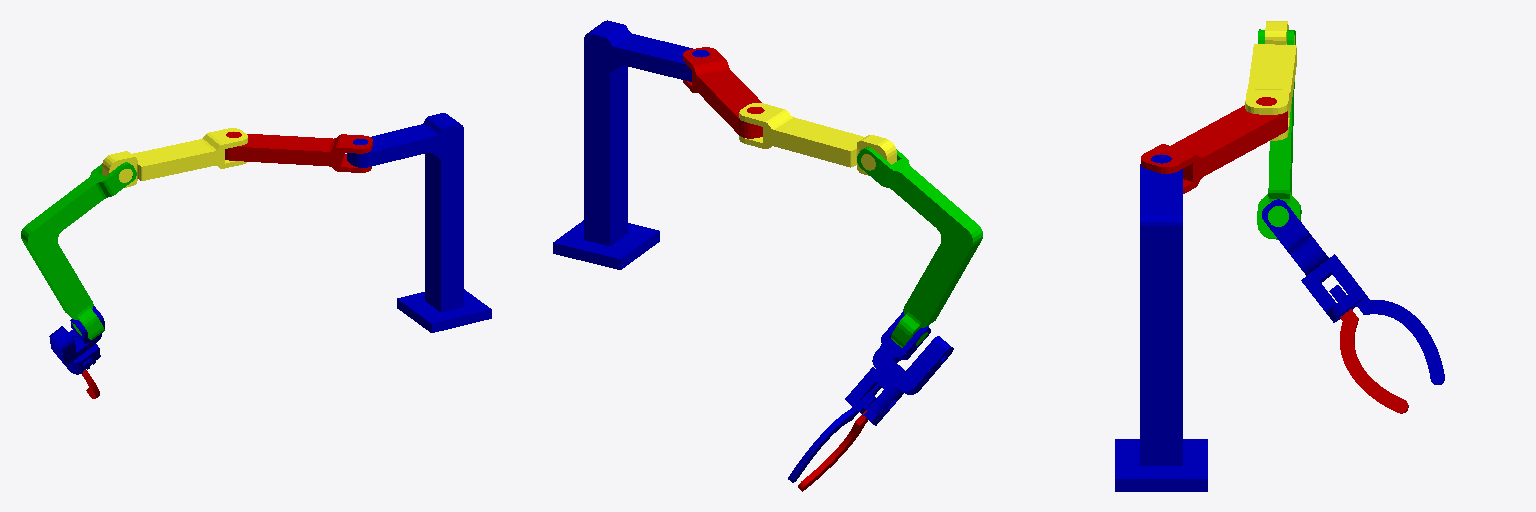
robot.urdf — aibomech_agrobot_v2:
<?xml version="1.0" encoding="utf-8"?>
<!-- This URDF was automatically created by SolidWorks to URDF Exporter! Originally created by Stephen Brawner (brawner@gmail.com) 
     Commit Version: 1.6.0-4-g7f85cfe  Build Version: 1.6.7995.38578
     For more information, please see http://wiki.ros.org/sw_urdf_exporter -->
<robot
  name="aibomech_agrobot_v2">

  <!-- * * * Link color for Rviz  * * * -->
  <material name="blue">
      <color rgba="0 0 0.8 1"/>
  </material>
  <material name="red">
      <color rgba="0.8 0 0 1"/>
  </material>
  <material name="green">
      <color rgba="0 0.8 0 1"/>
  </material>
  <material name="yellow">
      <color rgba="1 1 0.2 1"/>
  </material>

  <!-- * * * Gazebo controller  * * * -->
  <gazebo>
      <plugin name="gazebo_ros_control" filename="libgazebo_ros_control.so">
          <robotNamespace>/</robotNamespace>
      </plugin>
  </gazebo>

  
  <gazebo>
    <plugin name="joint_state_publisher" filename="libgazebo_ros_joint_state_publisher.so">
      <jointName>revolute_1,revolute_2,revolute_3,revolute_4,prismatic_1</jointName>
    </plugin>
  </gazebo>


  <!-- * * * Link Definitions * * * -->
  <link name="world"/>

  <link name="base_link">
    <inertial>
      <origin
        xyz="-0.010581 0.10145 0.0"
        rpy="0 0 0" />
      <mass
        value="0.2" />
      <inertia
        ixx="0.000025417"
        ixy="0.0"
        ixz="0.0"
        iyy="0.0006121"
        iyz="0.0"
        izz="0.0006167" />
    </inertial>
    <visual>
      <origin
        xyz="0 0 0"
        rpy="0 0 0" />
      <geometry>
        <mesh
          filename="package://aibomech_agrobot_v2/meshes/base_link.STL" />
      </geometry>
      <material name="blue"/>
    </visual>
    <collision>
      <origin
        xyz="0 0 0"
        rpy="0 0 0" />
      <geometry>
        <mesh
          filename="package://aibomech_agrobot_v2/meshes/base_link.STL" />
      </geometry>
    </collision>
  </link>

  <gazebo reference="base_link">
      <kp>1000.0</kp>
      <kd>10.0</kd>
      <mu1>10.0</mu1>
      <mu2>10.0</mu2>
      <material>Gazebo/Blue</material>
  </gazebo>

  <joint name="fixed" type="fixed">
       <parent link="world"/>
       <child link="base_link"/>
       <origin rpy="0 0 0" xyz="0.0 0.0 0.05"/>
  </joint>

  <link
    name="link_1">
    <inertial>
      <origin
        xyz="-0.0659 0.0125 0"
        rpy="0 0 0" />
      <mass
        value="0.15" />
      <inertia
        ixx="0.000014063"
        ixy="0.0"
        ixz="0.0"
        iyy="0.00025486"
        iyz="0.0"
        izz="0.0002633" />
    </inertial>
    <visual>
      <origin
        xyz="0 0 0"
        rpy="0 0 0" />
      <geometry>
        <mesh
          filename="package://aibomech_agrobot_v2/meshes/link_1.STL" />
      </geometry>
      <material name="red"/>
    </visual>
    <collision>
      <origin
        xyz="0 0 0"
        rpy="0 0 0" />
      <geometry>
        <mesh
          filename="package://aibomech_agrobot_v2/meshes/link_1.STL" />
      </geometry>
    </collision>
  </link>

  <gazebo reference="link_1">
      <kp>1000.0</kp>
      <kd>10.0</kd>
      <mu1>10.0</mu1>
      <mu2>10.0</mu2>
      <material>Gazebo/Red</material>
  </gazebo>

  <joint
    name="revolute_1"
    type="revolute">
    <origin
      xyz="-0.0905 0 0.1735"
      rpy="1.5708 0 -0.65897" />
    <parent
      link="base_link" />
    <child
      link="link_1" />
    <axis
      xyz="0 1 0" />
    <limit
      lower="-1.09"
      upper="2.1"
      effort="150"
      velocity="0" />
  </joint>

  <link
    name="link_2">
    <inertial>
      <origin
        xyz="-0.067695 0.012623 -4.1633E-17"
        rpy="0 0 0" />
      <mass
        value="0.15" />
      <inertia
        ixx="0.000014063"
        ixy="0.0"
        ixz="0.0"
        iyy="0.00026926"
        iyz="0.0"
        izz="0.0002777" />
    </inertial>
    <visual>
      <origin
        xyz="0 0 0"
        rpy="0 0 0" />
      <geometry>
        <mesh
          filename="package://aibomech_agrobot_v2/meshes/link_2.STL" />
      </geometry>
      <material name="yellow"/>
    </visual>
    <collision>
      <origin
        xyz="0 0 0"
        rpy="0 0 0" />
      <geometry>
        <mesh
          filename="package://aibomech_agrobot_v2/meshes/link_2.STL" />
      </geometry>
    </collision>
  </link>

  <gazebo reference="link_2">
      <kp>1000.0</kp>
      <kd>10.0</kd>
      <mu1>10.0</mu1>
      <mu2>10.0</mu2>
      <material>Gazebo/Yellow</material>
  </gazebo>

  <joint
    name="revolute_2"
    type="revolute">
    <origin
      xyz="-0.12 0 0"
      rpy="0 0.60223 0" />
    <parent
      link="link_1" />
    <child
      link="link_2" />
    <axis
      xyz="0 1 0" />
    <limit
      lower="-2.1"
      upper="1.11"
      effort="150"
      velocity="0" />
  </joint>

  <link
    name="link_3">
    <inertial>
      <origin
        xyz="-0.082394 -5.5511E-17 0.042771"
        rpy="0 0 0" />
      <mass
        value="0.081686" />
      <inertia
        ixx="0.00016721"
        ixy="0.0"
        ixz="0.0"
        iyy="0.0002399"
        iyz="0.0"
        izz="7.7701E-05" />
    </inertial>
    <visual>
      <origin
        xyz="0 0 0"
        rpy="0 0 0" />
      <geometry>
        <mesh
          filename="package://aibomech_agrobot_v2/meshes/link_3.STL" />
      </geometry>
      <material name="green"/>
    </visual>
    <collision>
      <origin
        xyz="0 0 0"
        rpy="0 0 0" />
      <geometry>
        <mesh
          filename="package://aibomech_agrobot_v2/meshes/link_3.STL" />
      </geometry>
    </collision>
  </link>

  <gazebo reference="link_3">
      <kp>1000.0</kp>
      <kd>10.0</kd>
      <mu1>10.0</mu1>
      <mu2>10.0</mu2>
      <material>Gazebo/Green</material>
  </gazebo>

  <joint
    name="revolute_3"
    type="revolute">
    <origin
      xyz="-0.12 0.013028 0"
      rpy="1.5708 0 0.49429" />
    <parent
      link="link_2" />
    <child
      link="link_3" />
    <axis
      xyz="0 1 0" />
    <limit
      lower="-2"
      upper="1.1"
      effort="5"
      velocity="0" />
  </joint>

  <link
    name="link_4">
    <inertial>
      <origin
        xyz="-0.044405 0.073633 -0.0018404"
        rpy="0 0 0" />
      <mass
        value="0.10" />
      <inertia
        ixx="0.000024375"
        ixy="0.0"
        ixz="0.0"
        iyy="0.00004208"
        iyz="0.0"
        izz="0.00003271" />
    </inertial>
    <visual>
      <origin
        xyz="0 0 0"
        rpy="0 0 0" />
      <geometry>
        <mesh
          filename="package://aibomech_agrobot_v2/meshes/link_4.STL" />
      </geometry>
      <material name="blue"/>
    </visual>
    <collision>
      <origin
        xyz="0 0 0"
        rpy="0 0 0" />
      <geometry>
        <mesh
          filename="package://aibomech_agrobot_v2/meshes/link_4.STL" />
      </geometry>
    </collision>
  </link>

  <gazebo reference="link_4">
      <kp>1000.0</kp>
      <kd>10.0</kd>
      <mu1>10.0</mu1>
      <mu2>10.0</mu2>
      <material>Gazebo/Blue</material>
  </gazebo>

  <joint
    name="revolute_4"
    type="revolute">
    <origin
      xyz="-0.041826 0 0.115"
      rpy="0 0.88733 1.5708" />
    <parent
      link="link_3" />
    <child
      link="link_4" />
    <axis
      xyz="0 1 0" />
    <limit
      lower="-1"
      upper="2.3"
      effort="10"
      velocity="0" />
  </joint>

  <link
    name="link_5">
    <inertial>
      <origin
        xyz="0.016259 0.041204 0.0025"
        rpy="0 0 0" />
      <mass
        value="0.05" />
      <inertia
        ixx="0.0000020833"
        ixy="0.0"
        ixz="0.0"
        iyy="0.00005208"
        iyz="0.0"
        izz="0.00005083" />
    </inertial>
    <visual>
      <origin
        xyz="0 0 0"
        rpy="0 0 0" />
      <geometry>
        <mesh
          filename="package://aibomech_agrobot_v2/meshes/link_5.STL" />
      </geometry>
      <material name="red"/>
    </visual>
    <collision>
      <origin
        xyz="0 0 0"
        rpy="0 0 0" />
      <geometry>
        <mesh
          filename="package://aibomech_agrobot_v2/meshes/link_5.STL" />
      </geometry>
    </collision>
  </link>

  <gazebo reference="link_5">
      <kp>1000.0</kp>
      <kd>10.0</kd>
      <mu1>10.0</mu1>
      <mu2>10.0</mu2>
      <material>Gazebo/Red</material>
  </gazebo>

  <joint
    name="prismatic_1"
    type="prismatic">
    <origin
      xyz="-0.075 0.080174 0"
      rpy="-0.84443 -1.5708 2.4684" />
    <parent
      link="link_4" />
    <child
      link="link_5" />
    <axis
      xyz="1 0 0" />
    <limit
      lower="-0.022"
      upper="0.01"
      effort="10"
      velocity="0" />

  </joint>


  <!-- * * * Motor and Hardware Definitions * * * -->

  <transmission name="tran1">
      <type>transmission_interface/SimpleTransmission</type>
      <joint name="revolute_1">
          <hardwareInterface>hardware_interface/PositionJointInterface</hardwareInterface>
      </joint>
      <actuator name="motor1">
          <hardwareInterface>hardware_interface/PositionJointInterface</hardwareInterface>
          <mechanicalReduction>1</mechanicalReduction>
      </actuator>
  </transmission>

  <transmission name="tran2">
      <type>transmission_interface/SimpleTransmission</type>
      <joint name="revolute_2">
          <hardwareInterface>hardware_interface/PositionJointInterface</hardwareInterface>
      </joint>
      <actuator name="motor2">
          <hardwareInterface>hardware_interface/PositionJointInterface</hardwareInterface>
          <mechanicalReduction>1</mechanicalReduction>
      </actuator>
  </transmission>

  <transmission name="tran3">
      <type>transmission_interface/SimpleTransmission</type>
      <joint name="revolute_3">
          <hardwareInterface>hardware_interface/PositionJointInterface</hardwareInterface>
      </joint>
      <actuator name="motor3">
          <hardwareInterface>hardware_interface/PositionJointInterface</hardwareInterface>
          <mechanicalReduction>1</mechanicalReduction>
      </actuator>
  </transmission>

  <transmission name="tran4">
      <type>transmission_interface/SimpleTransmission</type>
      <joint name="revolute_4">
          <hardwareInterface>hardware_interface/PositionJointInterface</hardwareInterface>
      </joint>
      <actuator name="motor4">
          <hardwareInterface>hardware_interface/PositionJointInterface</hardwareInterface>
          <mechanicalReduction>1</mechanicalReduction>
      </actuator>
  </transmission>

  <transmission name="tran5">
      <type>transmission_interface/SimpleTransmission</type>
      <joint name="prismatic_1">
          <hardwareInterface>hardware_interface/PositionJointInterface</hardwareInterface>
      </joint>
      <actuator name="motor5">
          <hardwareInterface>hardware_interface/PositionJointInterface</hardwareInterface>
          <mechanicalReduction>1</mechanicalReduction>
      </actuator>
  </transmission>


</robot>

--- What the picture shows (computed from the rendered views, not written in the file) ---
Views: 3 orthographic renders of the robot side by side, from view 1: azimuth 30°, elevation 25°; view 2: azimuth 150°, elevation 25°; view 3: azimuth 270°, elevation 25°.
Robot: aibomech_agrobot_v2 — 7 links, 6 joints (4 revolute, 1 prismatic, 1 fixed); root link world; default pose: every joint at zero.
Visible links, largest first — view 1: base_link, link_3, link_2, link_1, link_4; view 2: base_link, link_3, link_4, link_2, link_1, link_5; view 3: base_link, link_4, link_1, link_2, link_3, link_5.
Boxes of the visible links, x1,y1,x2,y2 form: base_link: [347, 113, 491, 332]; link_3: [21, 162, 136, 339]; link_2: [102, 128, 247, 187]; link_1: [225, 132, 372, 172]; link_4: [49, 306, 104, 374]; base_link: [553, 20, 709, 269]; link_3: [857, 147, 982, 347]; link_4: [788, 311, 953, 482]; link_2: [739, 103, 896, 175]; link_1: [683, 47, 764, 138]; link_5: [798, 410, 867, 491]; base_link: [1115, 154, 1207, 491]; link_4: [1262, 199, 1444, 384]; link_1: [1141, 97, 1287, 193]; link_2: [1245, 21, 1296, 140]; link_3: [1257, 29, 1301, 239]; link_5: [1340, 309, 1408, 413].
Bounding box of the posed robot: 0.4386 × 0.2303 × 0.29 m (x, y, z).
6 mesh visuals loaded from 6 distinct referenced files (6 binary STL).
